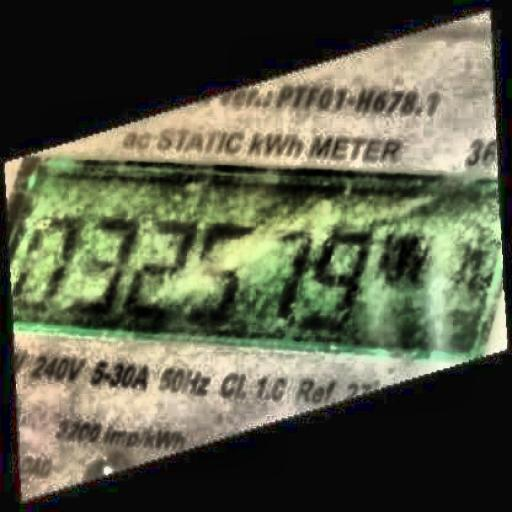DISPLAY_REGION: (1, 151, 510, 364)
SERIAL_REGION: (13, 205, 440, 340)
